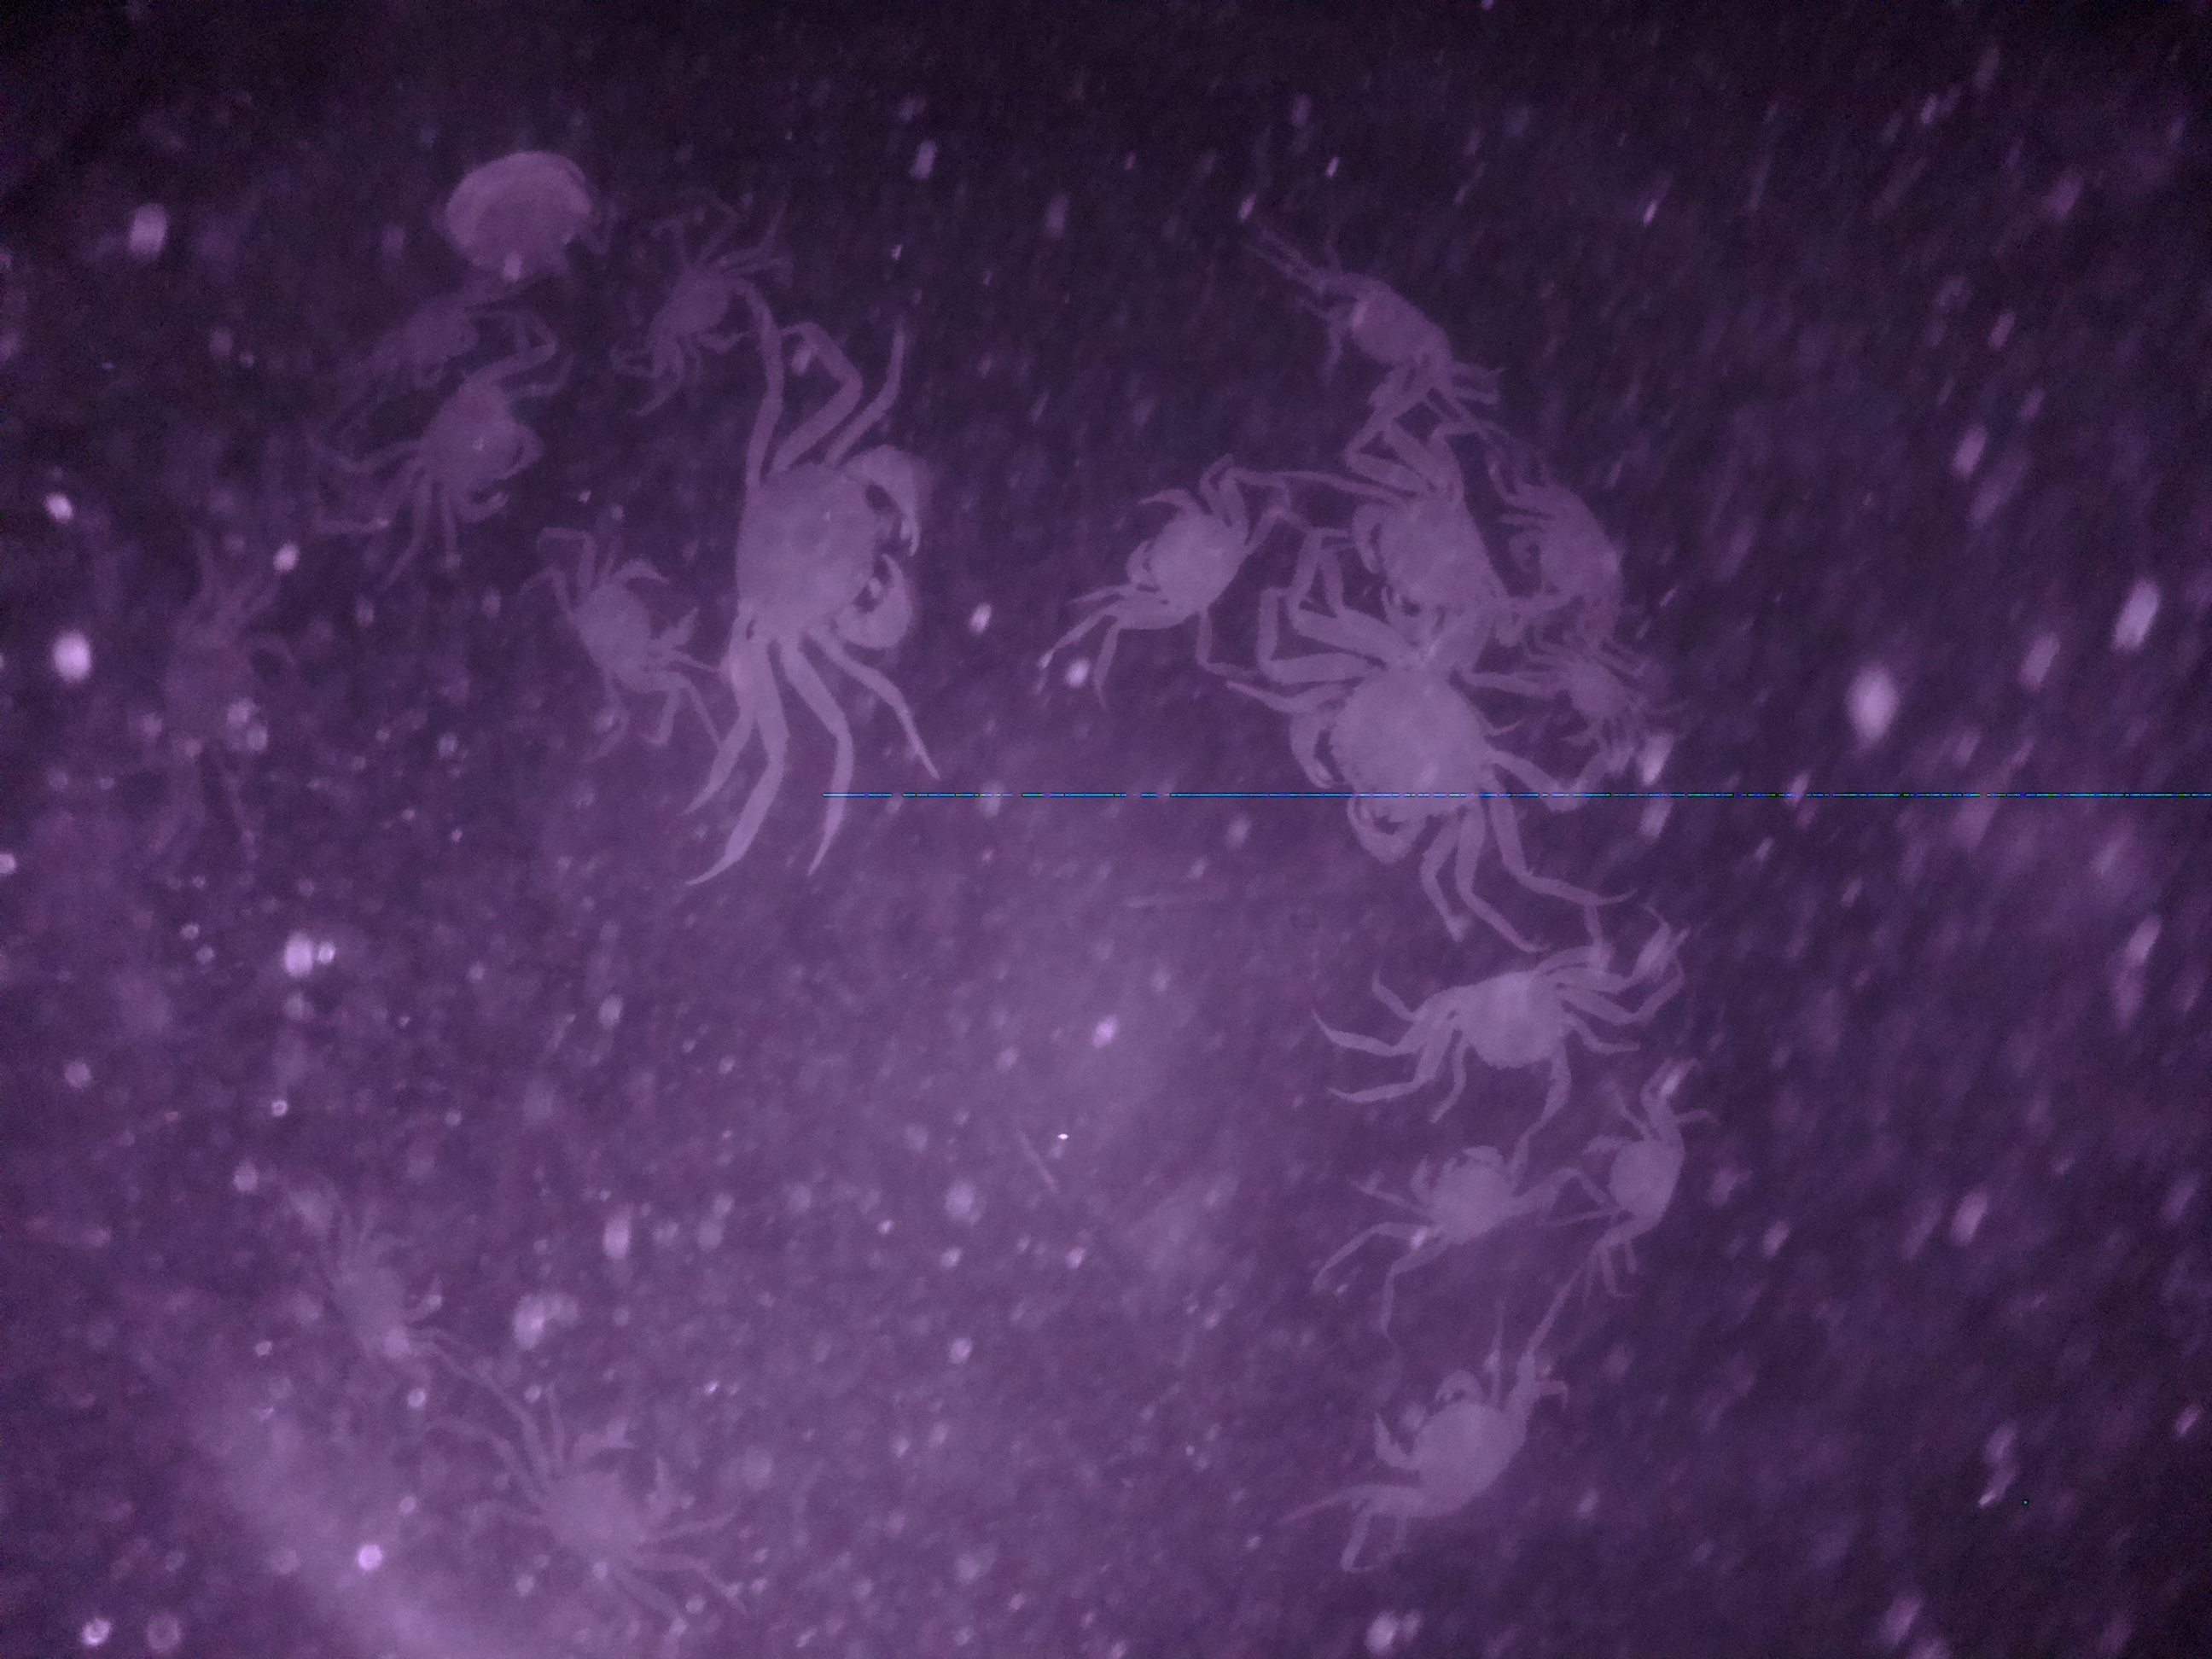Crab: (718, 413, 939, 674), (1345, 455, 1527, 688), (1362, 1351, 1555, 1558), (1385, 950, 1615, 1121), (406, 349, 578, 538), (1097, 441, 1251, 650), (1371, 1131, 1552, 1277), (549, 540, 705, 702), (1566, 1093, 1700, 1272)
